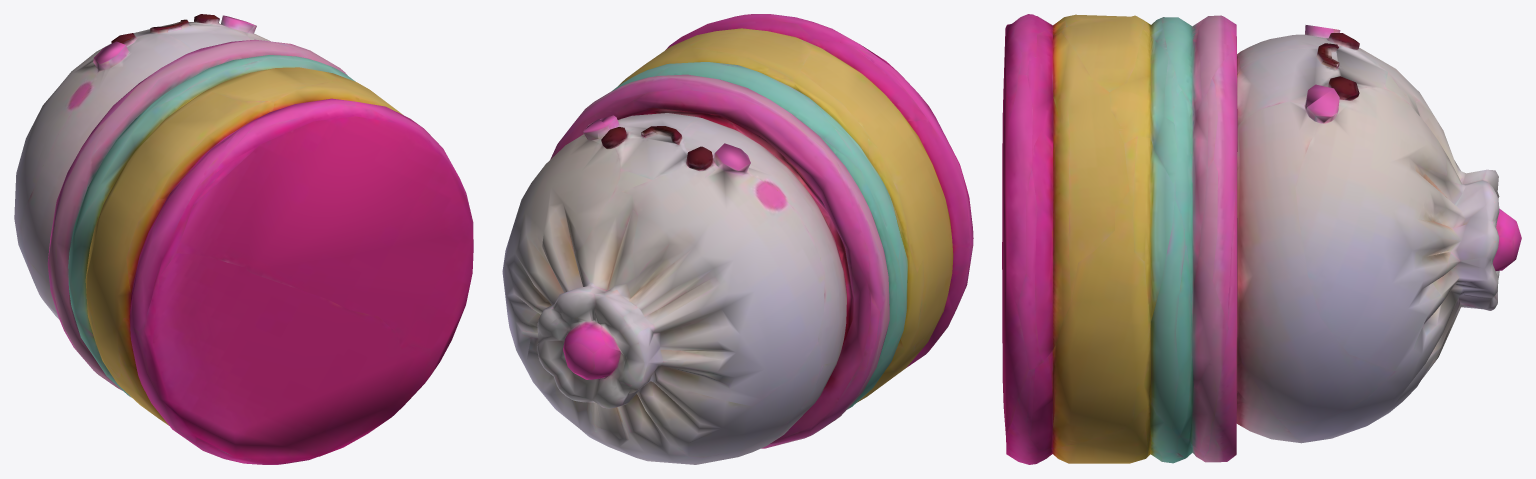
The picture shows the model from 3 angles, left to right: view 1: azimuth 30°, elevation 25°; view 2: azimuth 150°, elevation 25°; view 3: azimuth 270°, elevation 25°; orthographic projection. The views are drawn at different scales.
Parts seen in each view (by area): view 1: material; view 2: material; view 3: material.
Boxes of the visible parts, <box> form: material: <box>14,14,473,464</box>; material: <box>502,14,973,464</box>; material: <box>1002,14,1521,464</box>.
Size of the model in its own units: 0.871 by 0.8661 by 1.
1 material, 1 textured.
